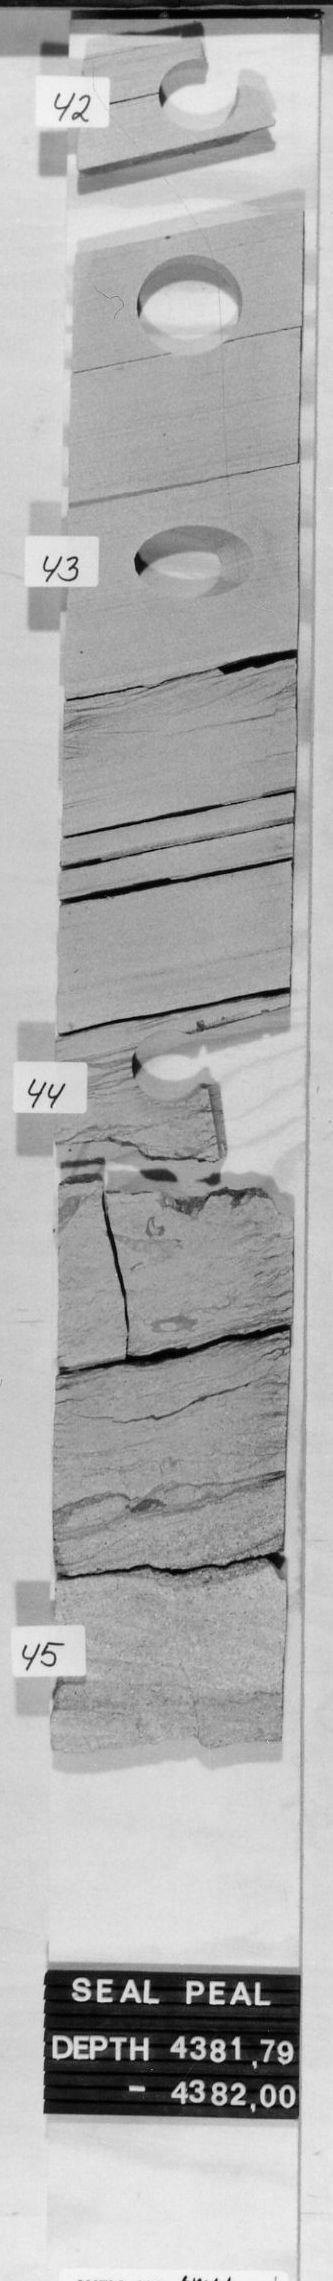hplug: (127, 516, 265, 607), (148, 52, 249, 135), (127, 1017, 204, 1107)
scal: (131, 252, 249, 359)
vplug: (202, 996, 285, 1215)
